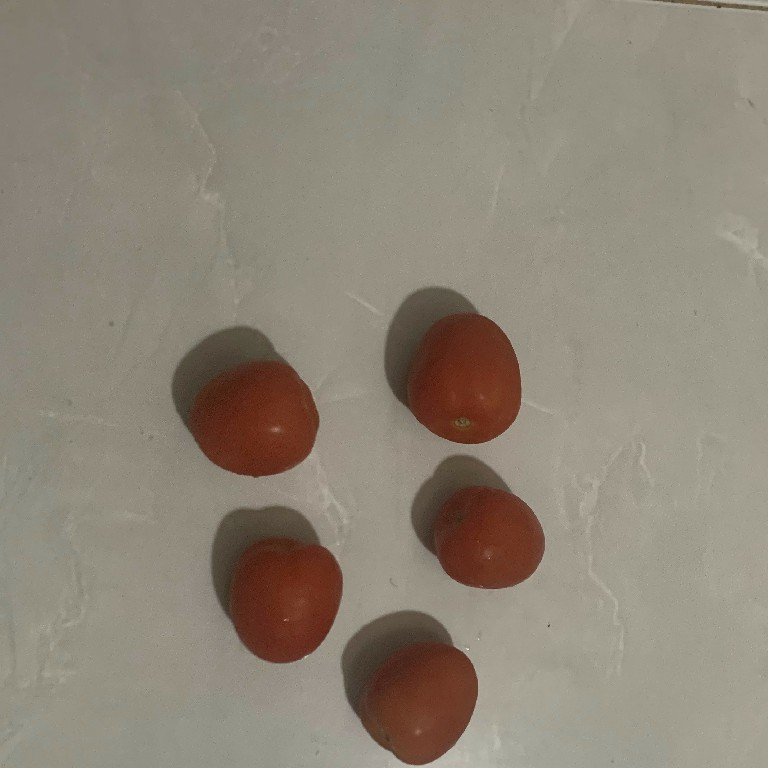OK: (399, 309, 525, 453), (356, 635, 480, 768), (188, 358, 318, 480), (226, 534, 340, 662), (427, 485, 549, 595)
